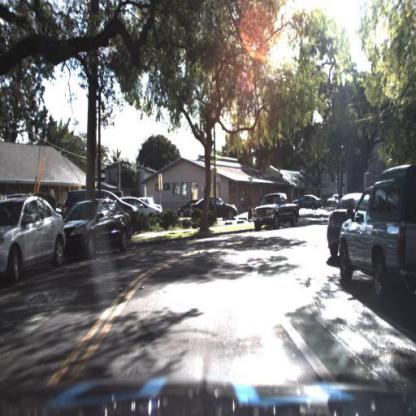car: (337, 159, 416, 296), (1, 195, 69, 295), (62, 199, 133, 254), (252, 191, 298, 233), (322, 188, 346, 266), (191, 197, 240, 224), (289, 184, 323, 216), (124, 198, 162, 226), (136, 202, 160, 234), (175, 195, 200, 225), (292, 193, 323, 211), (179, 199, 202, 217)
